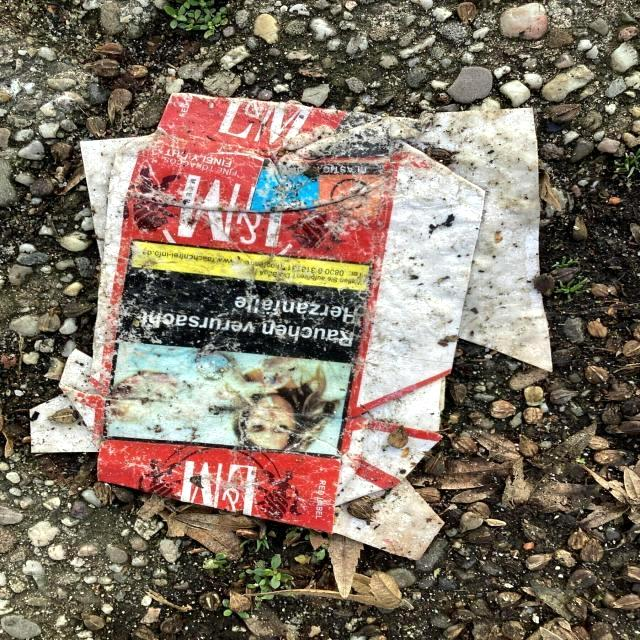Paper: (22, 83, 558, 564)
